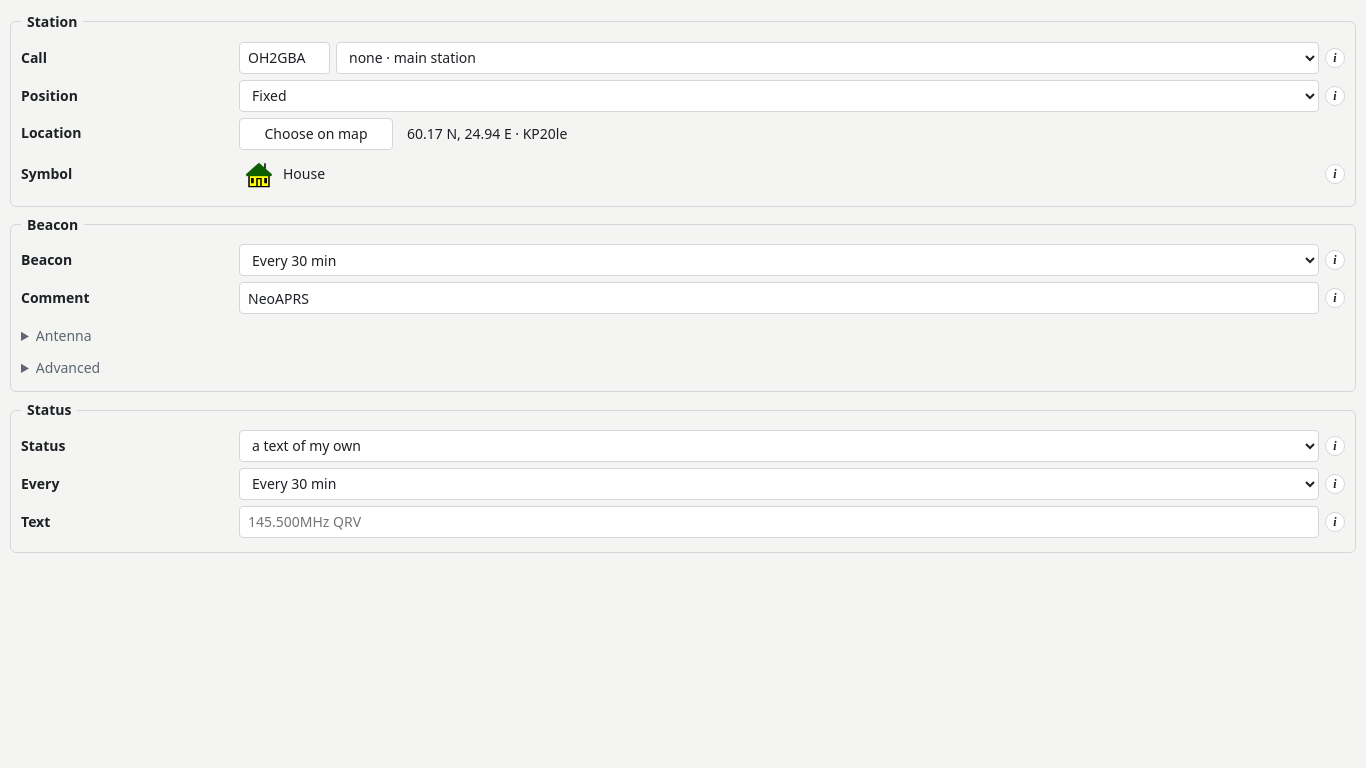
Scenario: the (i) of a field › tells on the Text of our own what a radio tunes to: the frequency first, as 145.500MHz, and how long the text may be, with that for the placeholder
Click the button with class "info-toggle" in the row of "Text" at (1335, 522), box [1325, 512, 1345, 532]
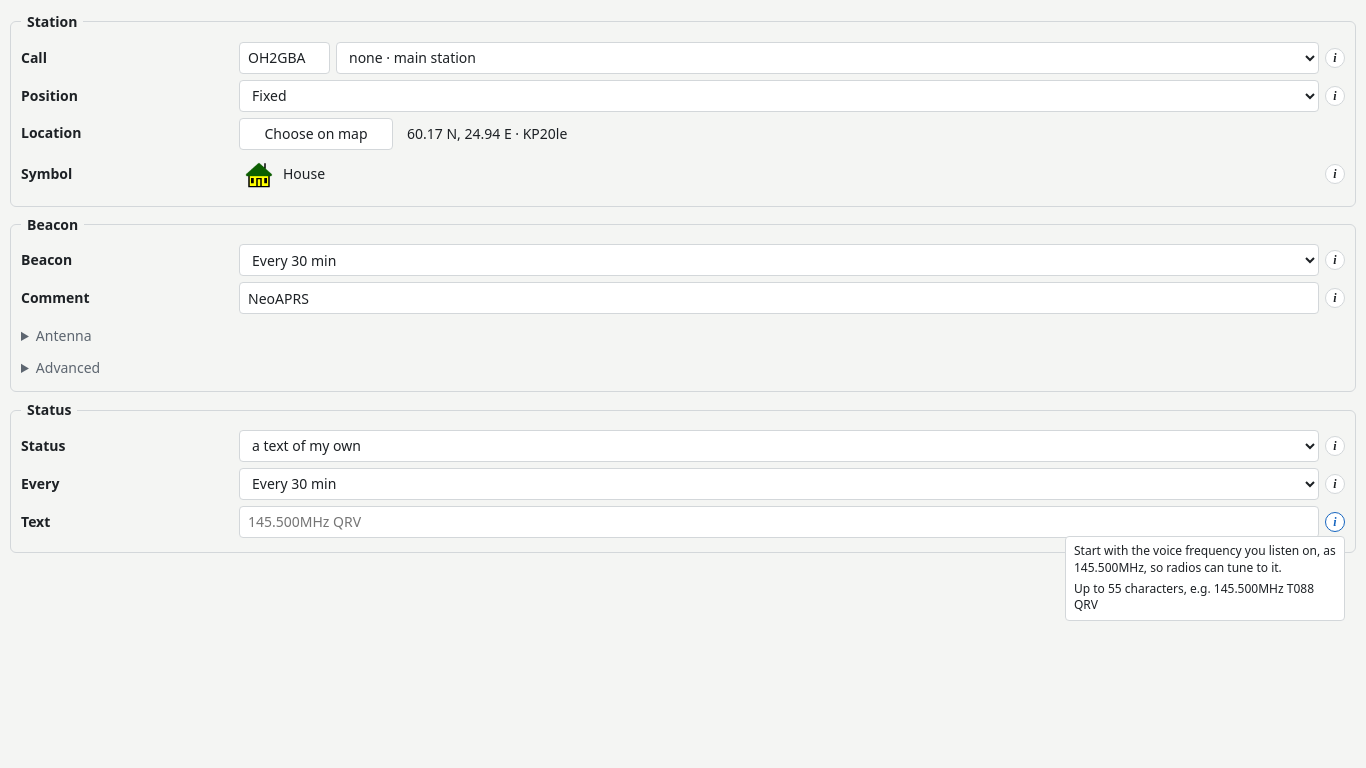
Result: the elements with class "info-line" read "Start with the voice frequency you listen on, as 145.500MHz, so radios can tune to it.", "Up to 55 characters, e.g. 145.500MHz T088 QRV", in this order at [1074, 543, 1336, 577]; [1074, 581, 1336, 614]
